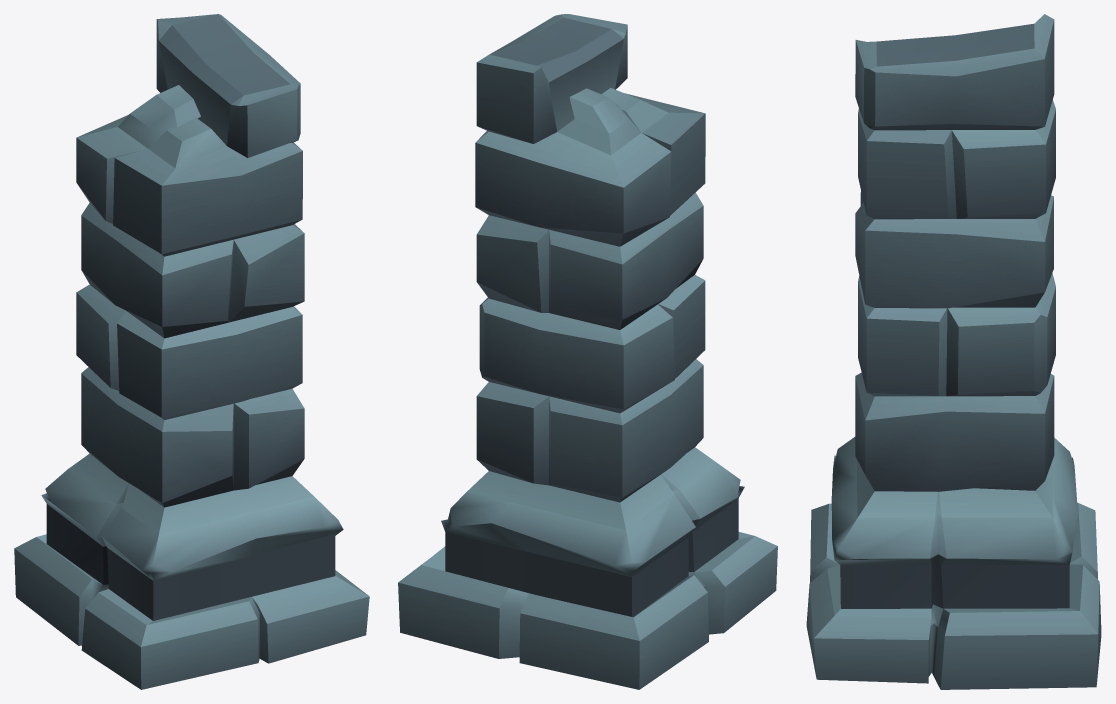
Rendered from Modular_Dungeon_Pillar_Square_Broken_Bottom.fbx.
The picture shows the model from 3 angles, left to right: view 1: azimuth 30°, elevation 25°; view 2: azimuth 150°, elevation 25°; view 3: azimuth 270°, elevation 25°; orthographic projection. The views are drawn at different scales.
Visible parts, largest first — view 1: Pillar_Square_Broken_Bottom; view 2: Pillar_Square_Broken_Bottom; view 3: Pillar_Square_Broken_Bottom.
Boxes of the visible parts, left/top/right/bottom form: Pillar_Square_Broken_Bottom: left=14, top=14, right=369, bottom=689; Pillar_Square_Broken_Bottom: left=398, top=14, right=777, bottom=689; Pillar_Square_Broken_Bottom: left=806, top=14, right=1101, bottom=689.
Bounding box in the file's own units: 1.93 × 4.21 × 1.84.
Materials: 1 (1 with a texture image).
